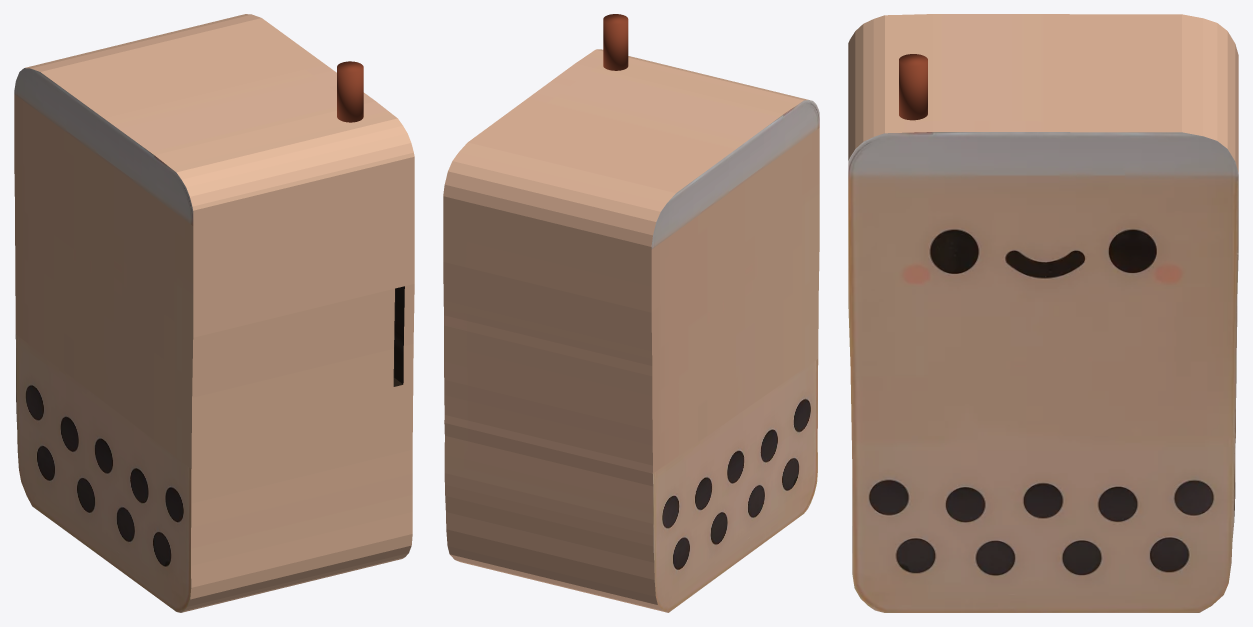
File: (Unity)Bubble Tea Theme Minifridge.fbx
The picture shows the model from 3 angles, left to right: view 1: azimuth 30°, elevation 25°; view 2: azimuth 150°, elevation 25°; view 3: azimuth 270°, elevation 25°; orthographic projection. The views are drawn at different scales.
Parts seen in each view (by area): view 1: bubbleteafridge, bubbleteafridge.002; view 2: bubbleteafridge, bubbleteafridge.002; view 3: bubbleteafridge.002, bubbleteafridge.
Boxes of the visible parts, bbox=[...] form: bubbleteafridge: bbox=[14, 19, 393, 612]; bubbleteafridge.002: bbox=[226, 14, 414, 564]; bubbleteafridge: bbox=[463, 14, 819, 612]; bubbleteafridge.002: bbox=[443, 49, 603, 567]; bubbleteafridge.002: bbox=[848, 121, 1238, 612]; bubbleteafridge: bbox=[848, 14, 1238, 560].
Bounding box in the file's own units: 87.54 × 185 × 122.
3 materials, 2 textured.
